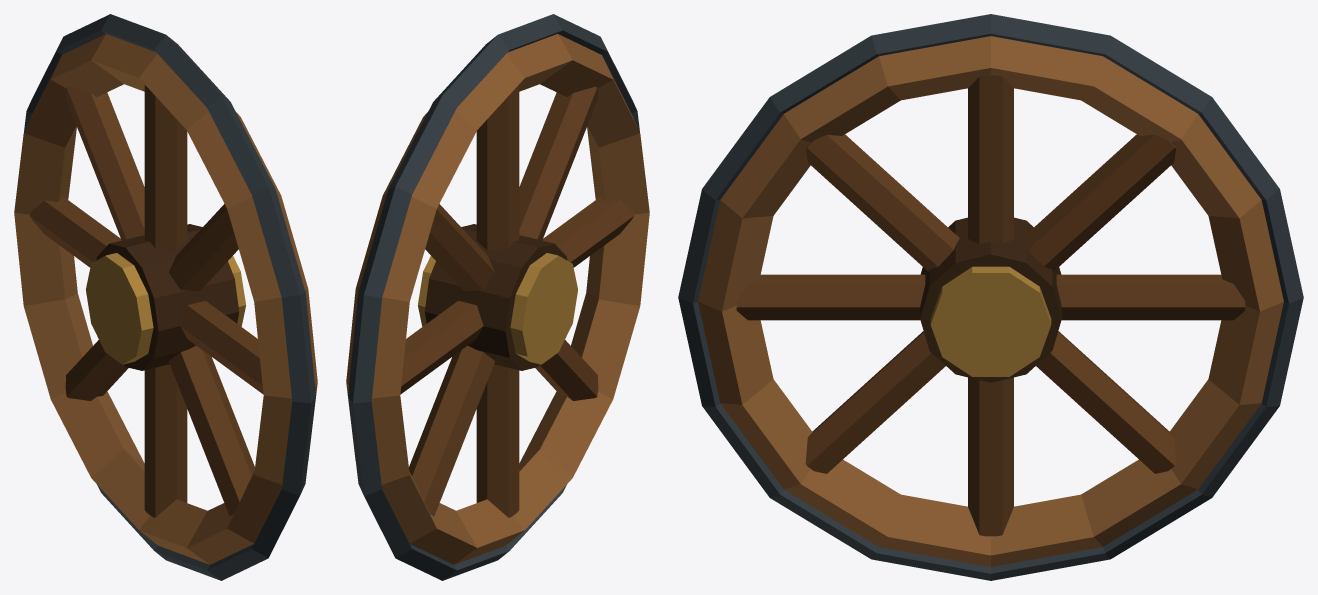
The model's file is WheelRight.glb.
The picture shows the model from 3 angles, left to right: view 1: azimuth 30°, elevation 25°; view 2: azimuth 150°, elevation 25°; view 3: azimuth 270°, elevation 25°; orthographic projection. The views are drawn at different scales.
Visible parts, largest first — view 1: Sculpture; view 2: Sculpture; view 3: Sculpture.
Part boxes in pixels (box(x1,y1,x2,y2)): Sculpture: box(14, 14, 317, 580); Sculpture: box(346, 14, 649, 580); Sculpture: box(678, 14, 1303, 580).
Size of the model in its own units: 0.22 by 1.06 by 1.06.
